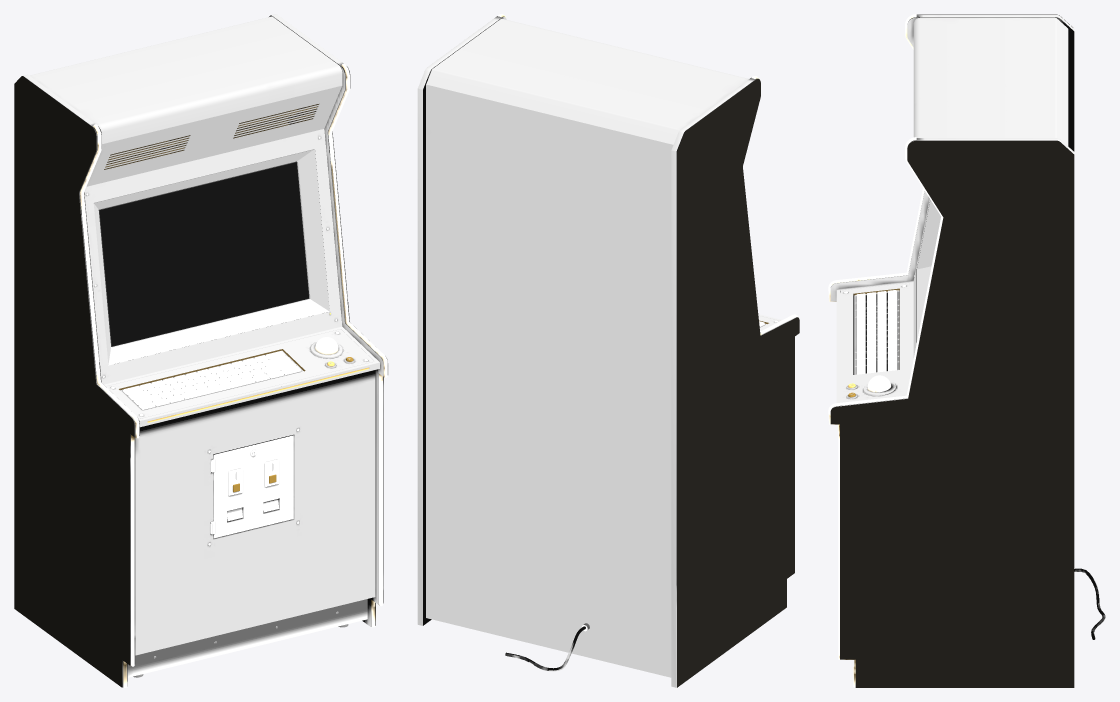
File: mach-riftback-v4.glb
3 renders of one model, left to right at view 1: azimuth 30°, elevation 25°; view 2: azimuth 150°, elevation 25°; view 3: azimuth 270°, elevation 25°, orthographic. The views are drawn at different scales.
Parts seen in each view (by area): view 1: body, side_art_l, screen, glass, trim, controls, metal; view 2: body, side_art_l; view 3: side_art_r, body, controls, trim, trackball.
Boxes of the visible parts, x1=… form: body: x1=23, y1=14, x2=388, y2=687; side_art_l: x1=14, y1=76, x2=134, y2=687; screen: x1=99, y1=162, x2=308, y2=346; glass: x1=100, y1=162, x2=309, y2=345; trim: x1=80, y1=63, x2=387, y2=687; controls: x1=120, y1=313, x2=330, y2=492; metal: x1=86, y1=136, x2=367, y2=677; body: x1=417, y1=16, x2=796, y2=687; side_art_l: x1=677, y1=78, x2=799, y2=687; side_art_r: x1=830, y1=140, x2=1074, y2=687; body: x1=830, y1=15, x2=1074, y2=410; controls: x1=854, y1=290, x2=899, y2=374; trim: x1=828, y1=14, x2=943, y2=687; trackball: x1=863, y1=375, x2=895, y2=395.
Bounding box in the file's own units: 0.953 × 1.94 × 0.8869.
24 materials, 9 textured.
